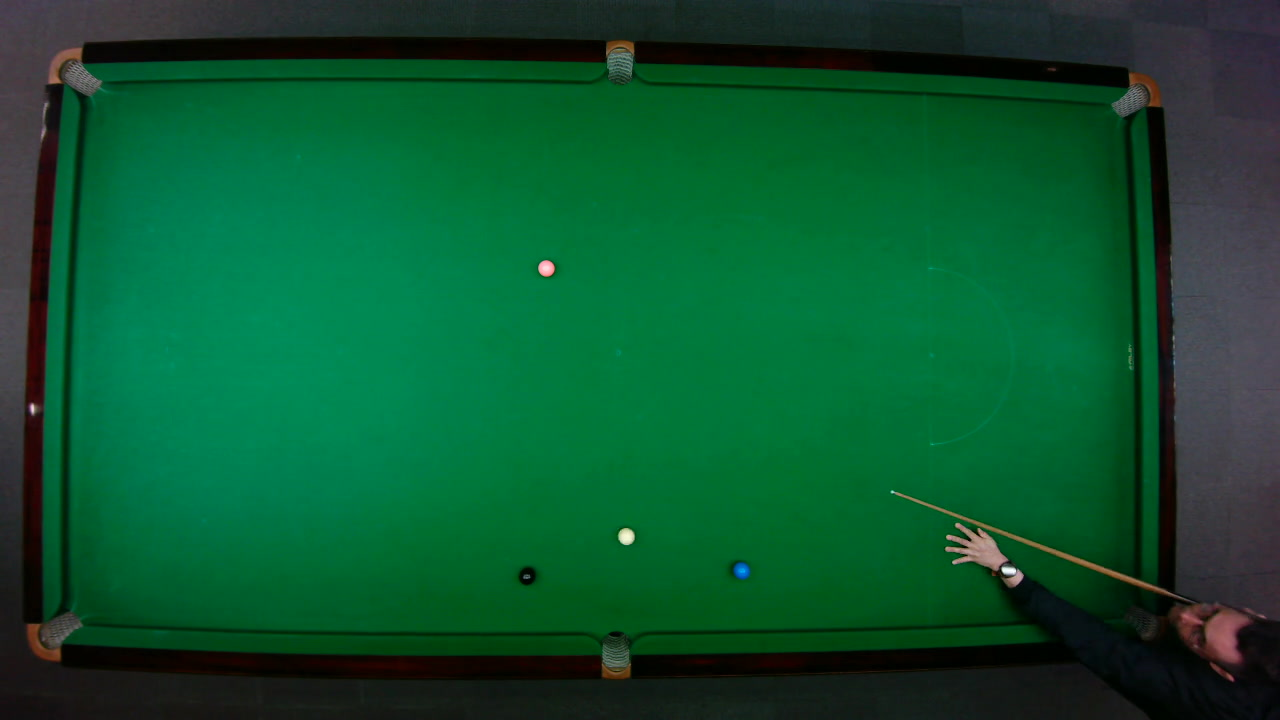bag: (25, 609, 83, 661), (46, 46, 102, 96), (1118, 604, 1171, 652), (1108, 71, 1161, 118), (600, 629, 630, 680), (605, 38, 633, 85)
black: (517, 566, 535, 585)
blue: (731, 560, 750, 579)
cue: (890, 487, 1200, 607)
pink: (536, 258, 555, 277)
white: (616, 526, 635, 545)
zone: (927, 266, 1013, 445)
